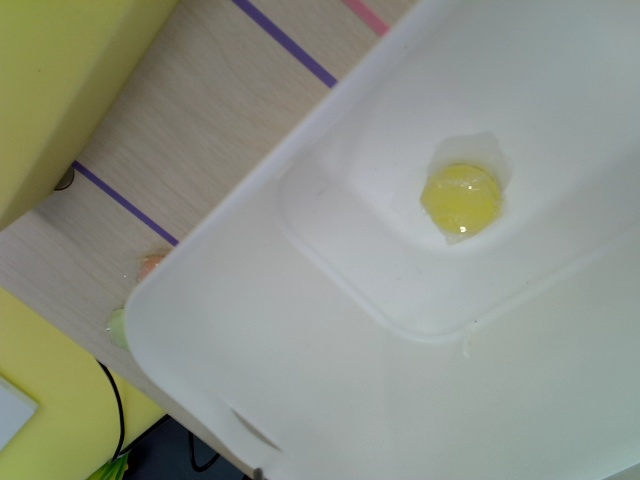씨앗: (422, 166, 503, 235)
